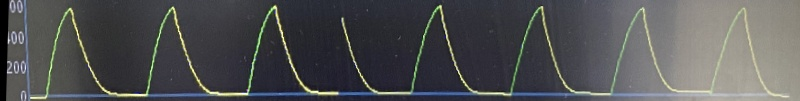normal_volume: (20, 0, 800, 101)
